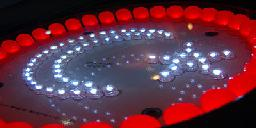LED: (10, 6, 255, 128), (45, 21, 65, 42)
